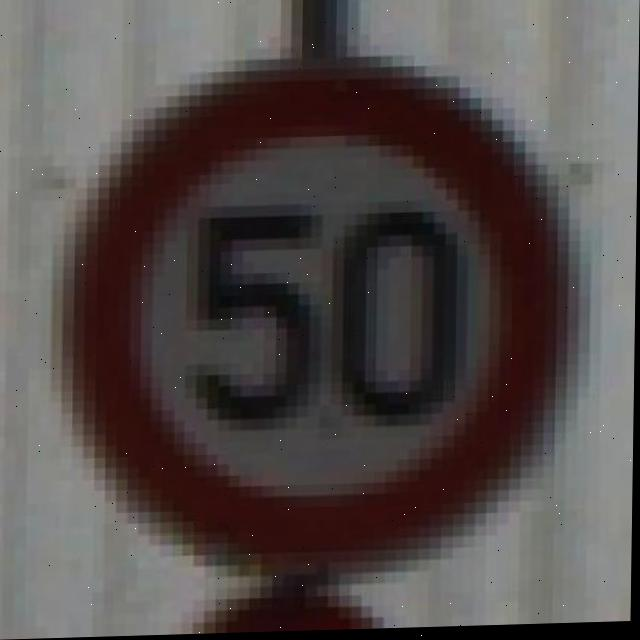Speed limit 50: (60, 54, 583, 567)
